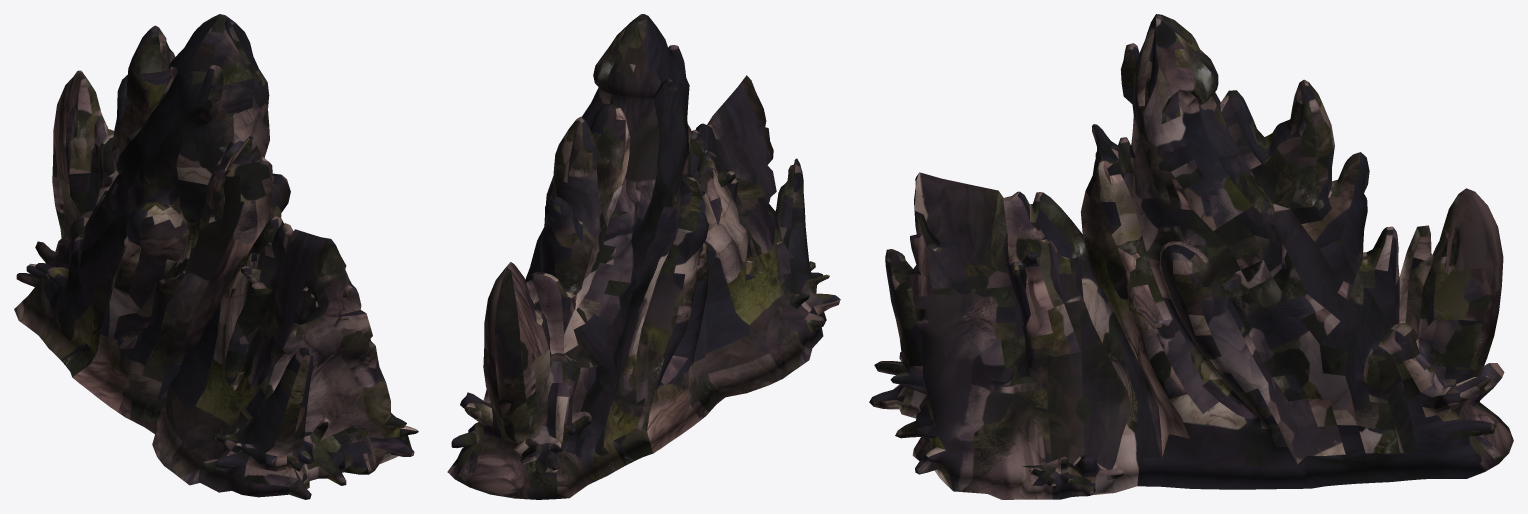
Rendered from rocky+mountain+3d+model.fbx.
3 renders of one model, left to right at view 1: azimuth 30°, elevation 25°; view 2: azimuth 150°, elevation 25°; view 3: azimuth 270°, elevation 25°, orthographic. The views are drawn at different scales.
Visible parts, largest first — view 1: d8ffce11_a5c5_41e6_8914_34da14158ad9; view 2: d8ffce11_a5c5_41e6_8914_34da14158ad9; view 3: d8ffce11_a5c5_41e6_8914_34da14158ad9.
Part boxes in pixels (left/top/right/bottom): d8ffce11_a5c5_41e6_8914_34da14158ad9: left=14, top=14, right=418, bottom=499; d8ffce11_a5c5_41e6_8914_34da14158ad9: left=447, top=14, right=840, bottom=499; d8ffce11_a5c5_41e6_8914_34da14158ad9: left=869, top=14, right=1513, bottom=499.
Size of the model in its own units: 0.4224 by 0.7378 by 0.9995.
